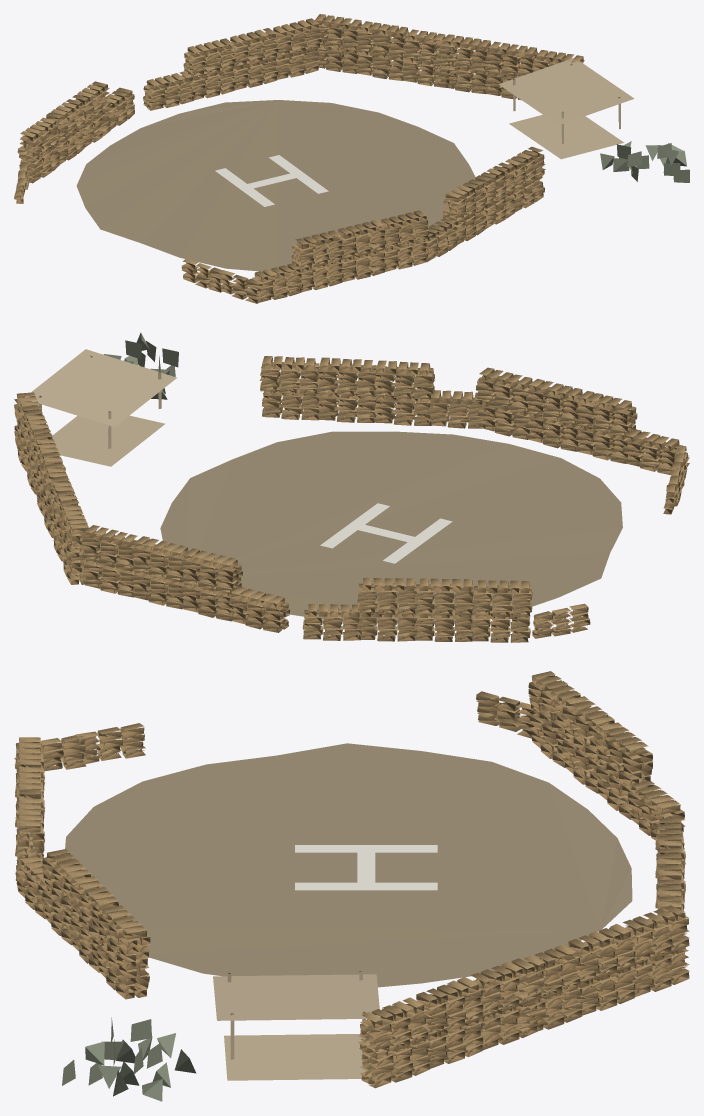
Rendered from helipad.glb.
3 views of the same model, one above another, from view 1: azimuth 30°, elevation 25°; view 2: azimuth 150°, elevation 25°; view 3: azimuth 270°, elevation 25° (orthographic). The views are drawn at different scales.
Visible parts, largest first — view 1: helipad; view 2: helipad; view 3: helipad.
Boxes of the visible parts, x1,y1,x2,y2 form: helipad: (14,14,689,303); helipad: (14,332,689,642); helipad: (14,671,689,1101).
Size of the model in its own units: 25.62 by 2.2 by 18.99.
Materials: 55 (44 with a texture image).
